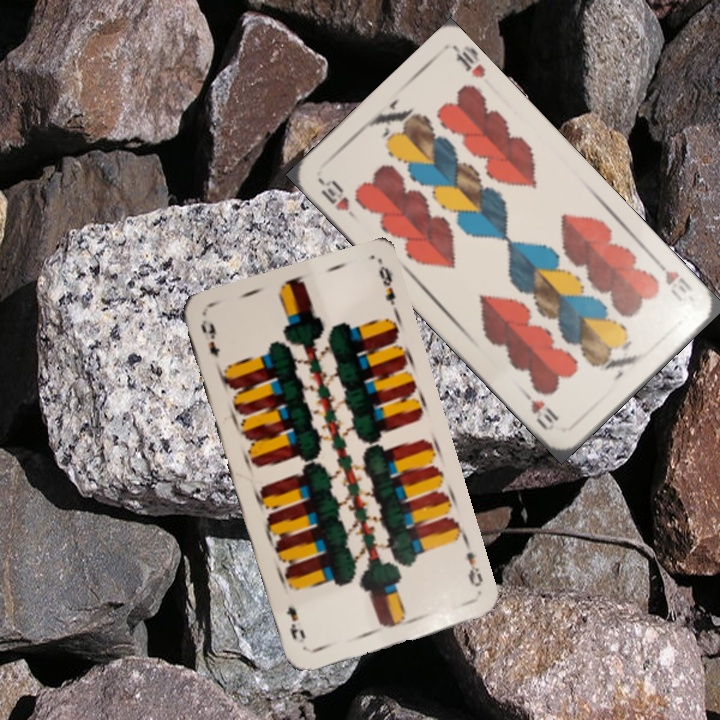E9: (461, 537, 486, 590), (197, 316, 222, 359)
H10: (315, 175, 361, 223), (651, 256, 696, 305)
